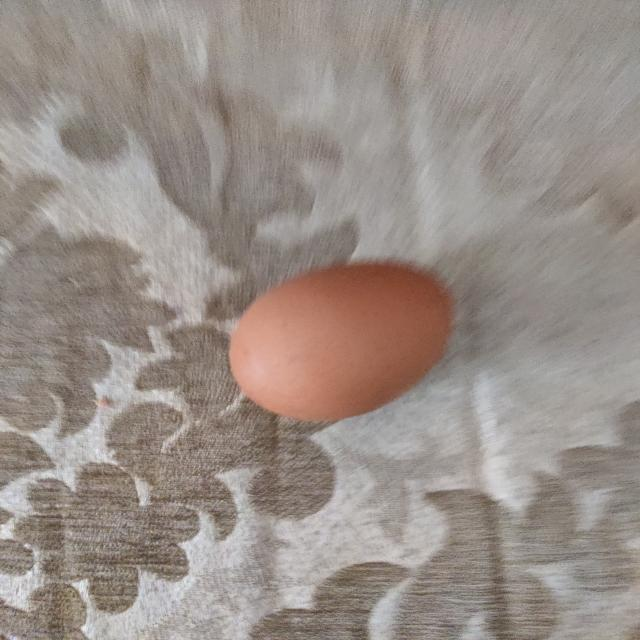egg: (228, 258, 454, 424)
